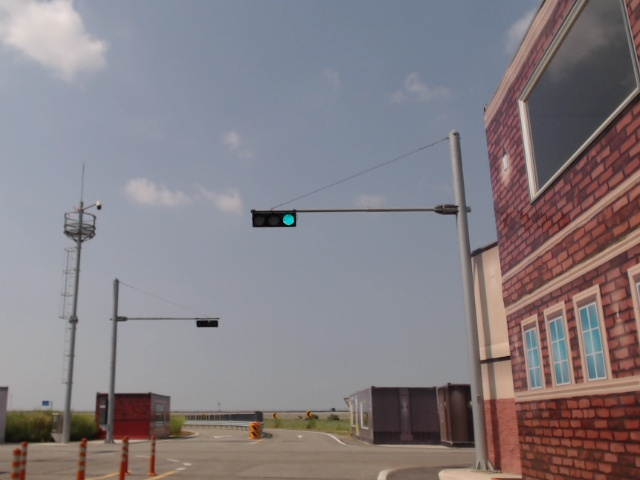green_3: (251, 210, 297, 228)
